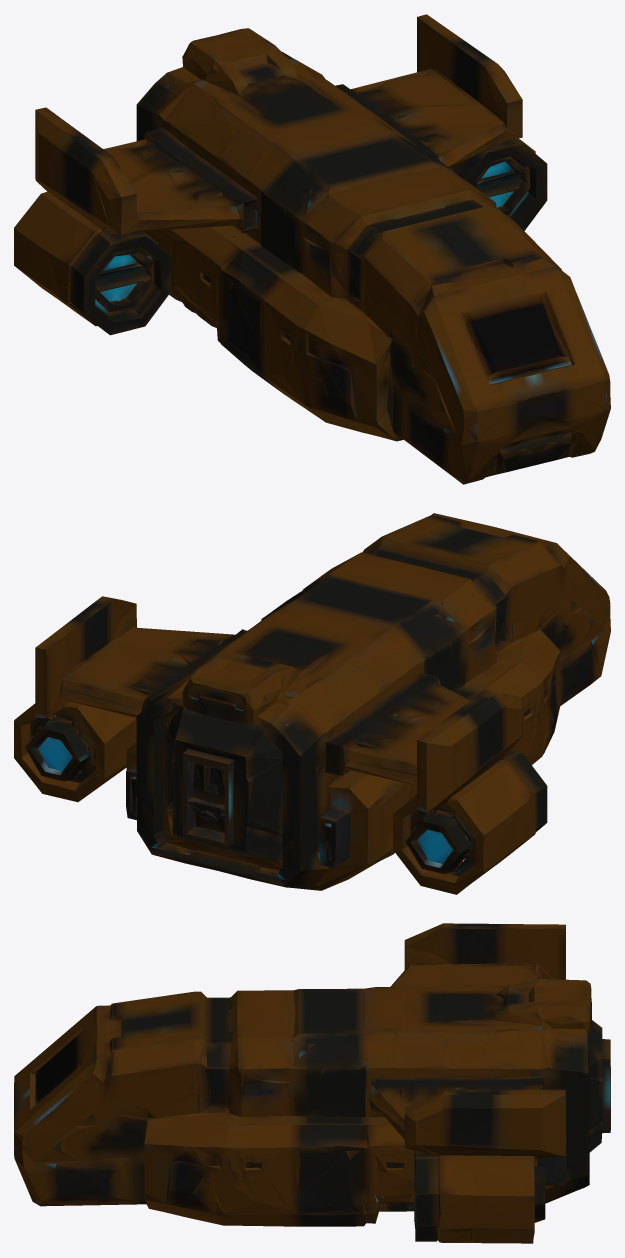
3 views of the same model, one above another, from view 1: azimuth 30°, elevation 25°; view 2: azimuth 150°, elevation 25°; view 3: azimuth 270°, elevation 25° (orthographic). The views are drawn at different scales.
Visible parts, largest first — view 1: world; view 2: world; view 3: world.
Part boxes in pixels (<box>): world: <box>14,14,610,484</box>; world: <box>14,513,610,894</box>; world: <box>14,923,610,1243</box>.
Size of the model in its own units: 0.8117 by 0.3547 by 1.
Materials: 1 (1 with a texture image).
